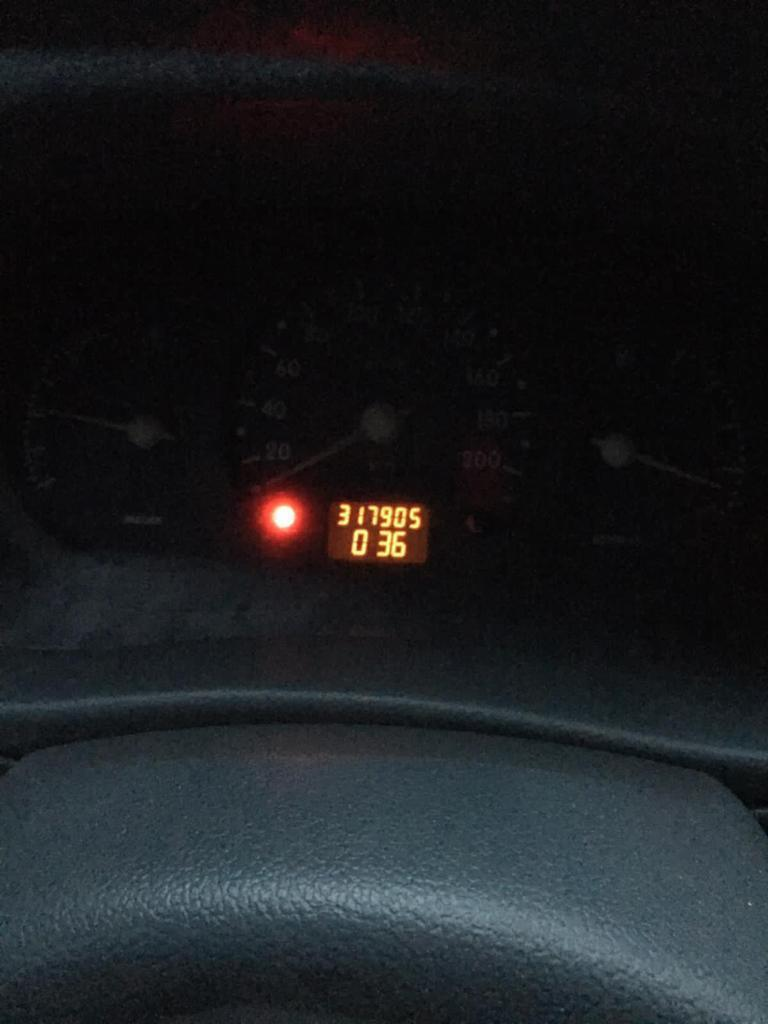0: (349, 527, 368, 558), (394, 505, 406, 528)
1: (356, 505, 365, 525)
3: (377, 528, 390, 559), (336, 501, 351, 526)
5: (408, 504, 421, 530)
6: (392, 529, 407, 560)
7: (368, 504, 379, 526)
9: (380, 504, 392, 527)
odometer: (327, 498, 431, 564)
